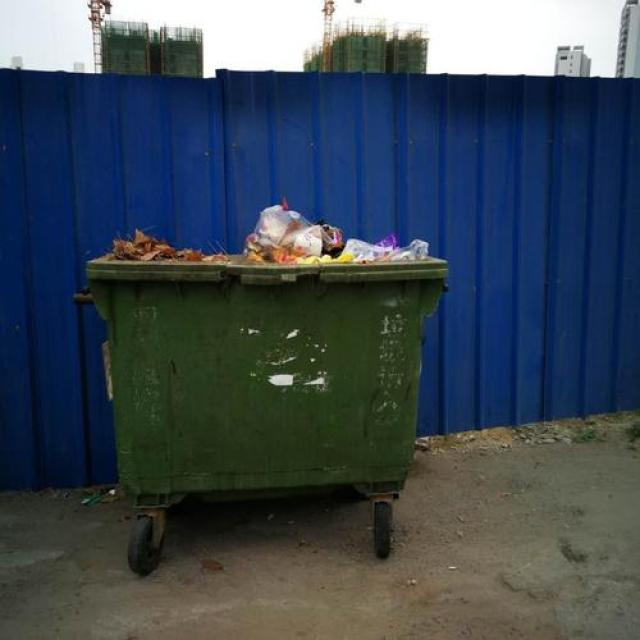overflow: (70, 200, 446, 507)
